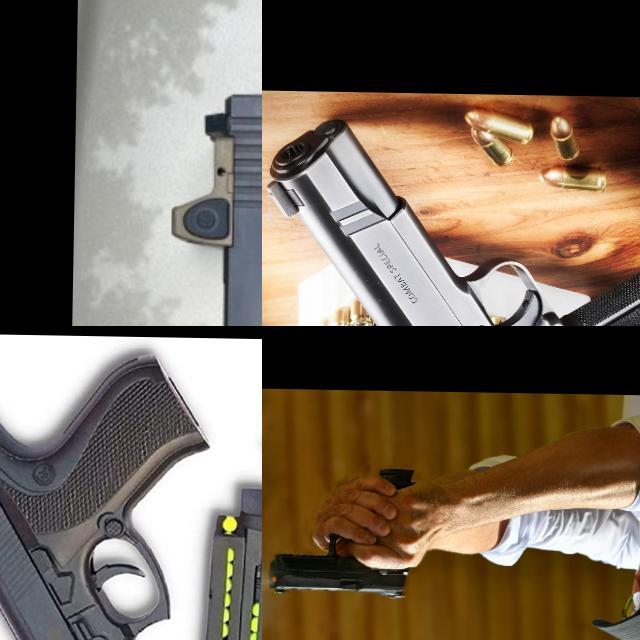handgun: (262, 112, 640, 326), (0, 340, 215, 640), (156, 60, 262, 326), (265, 528, 411, 600)
